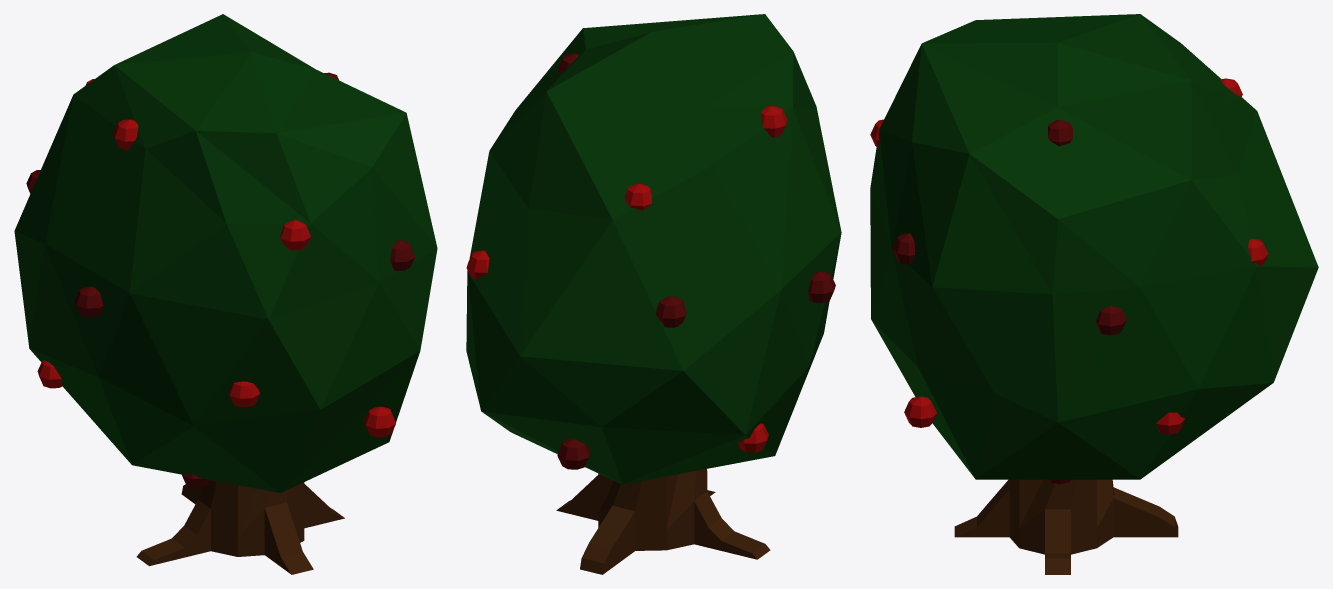
Rendered from FoodBush.FBX.
3 renders of one model, left to right at view 1: azimuth 30°, elevation 25°; view 2: azimuth 150°, elevation 25°; view 3: azimuth 270°, elevation 25°, orthographic. The views are drawn at different scales.
Visible parts, largest first — view 1: FoodBush; view 2: FoodBush; view 3: FoodBush.
Part boxes in pixels (<box>): FoodBush: <box>14,14,437,574</box>; FoodBush: <box>466,14,841,574</box>; FoodBush: <box>870,14,1318,574</box>.
Bounding box in the file's own units: 28.1 × 40.65 × 33.79.
